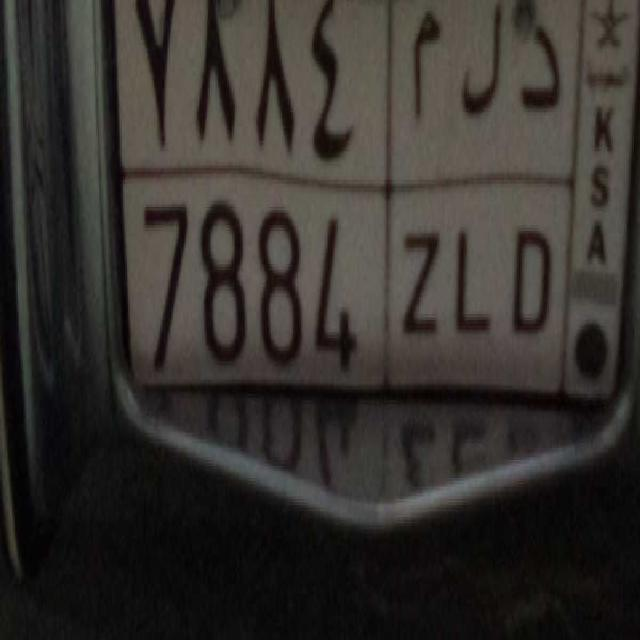license_plate: (130, 168, 561, 420)
